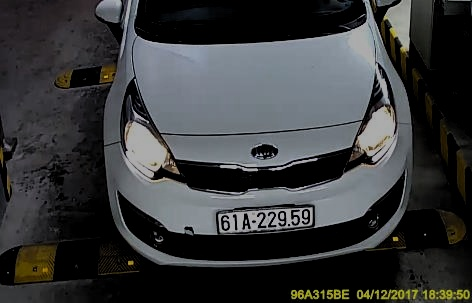plate: (218, 204, 315, 233)
